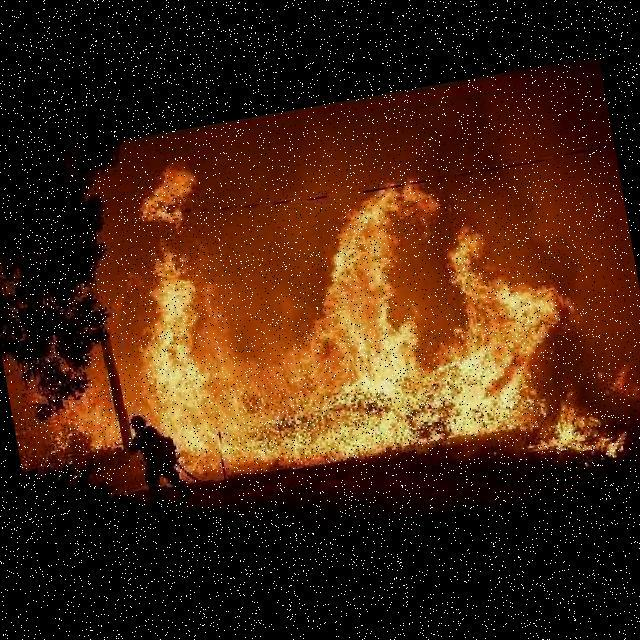Fire: (21, 83, 640, 540)
